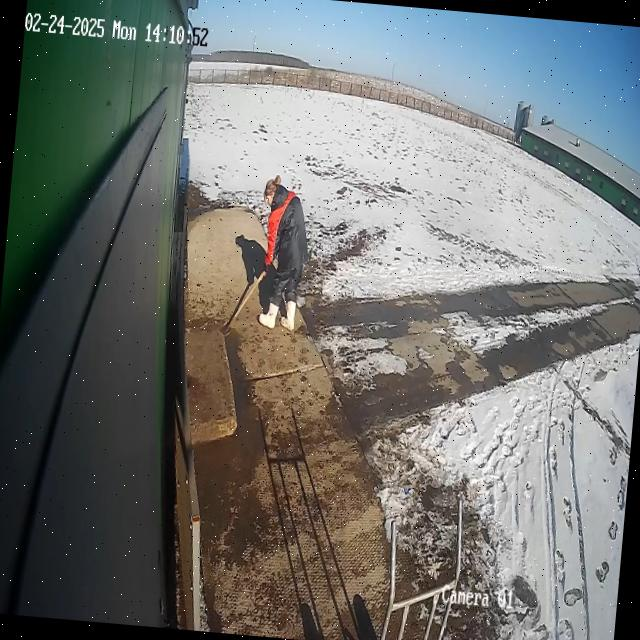Red uniform: (249, 172, 315, 334)
